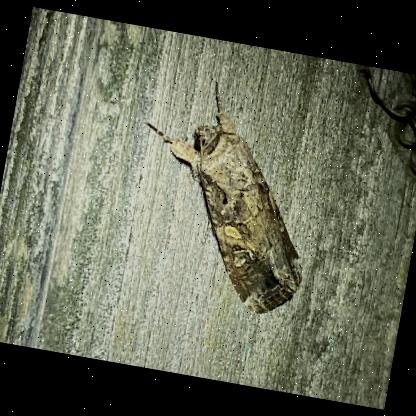Fall Armyworm Moth: (113, 68, 335, 323)
